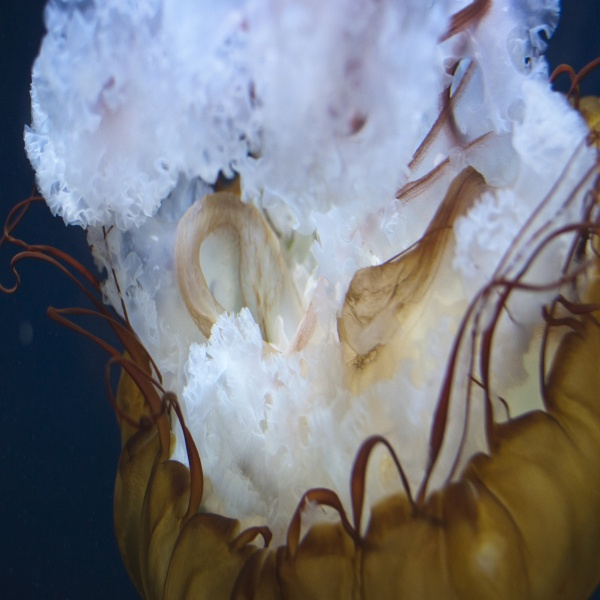Jellyfish: (53, 20, 600, 600)
